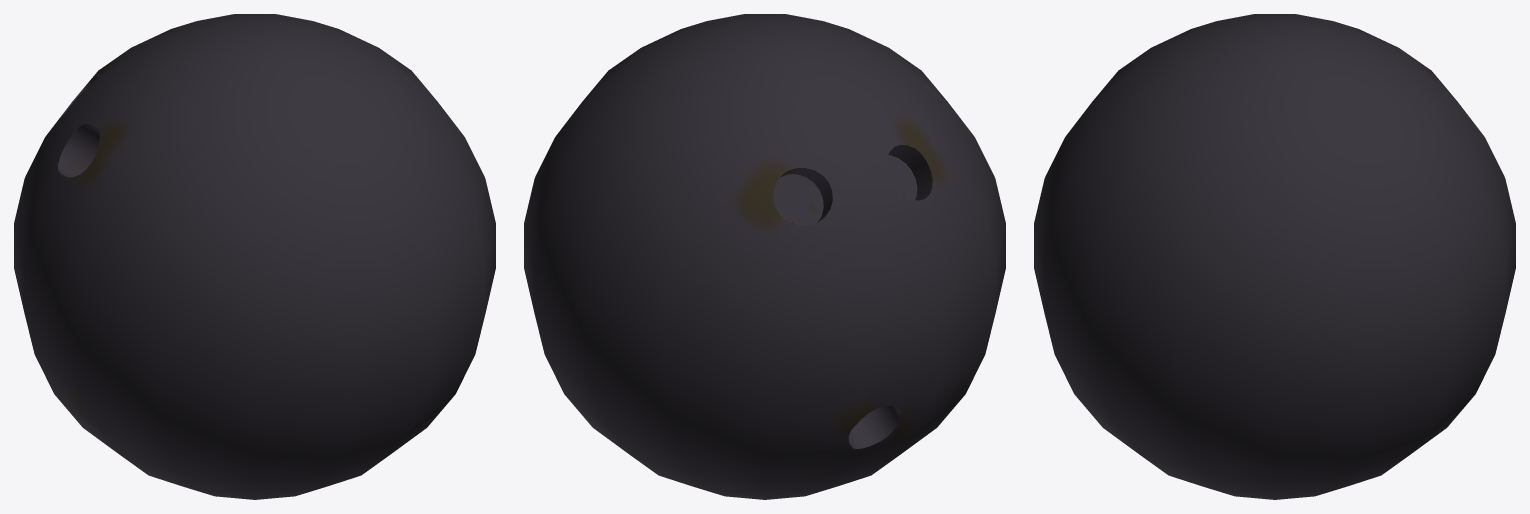
The model's file is bowlingBallAll.fbx.
The picture shows the model from 3 angles, left to right: view 1: azimuth 30°, elevation 25°; view 2: azimuth 150°, elevation 25°; view 3: azimuth 270°, elevation 25°; orthographic projection.
Parts seen in each view (by area): view 1: polySurface2; view 2: polySurface2; view 3: polySurface2.
Boxes of the visible parts, x1,y1,x2,y2 form: polySurface2: (14, 14, 495, 499); polySurface2: (524, 14, 1005, 499); polySurface2: (1034, 14, 1515, 499).
Bounding box in the file's own units: 5.24 × 5.33 × 5.27.
